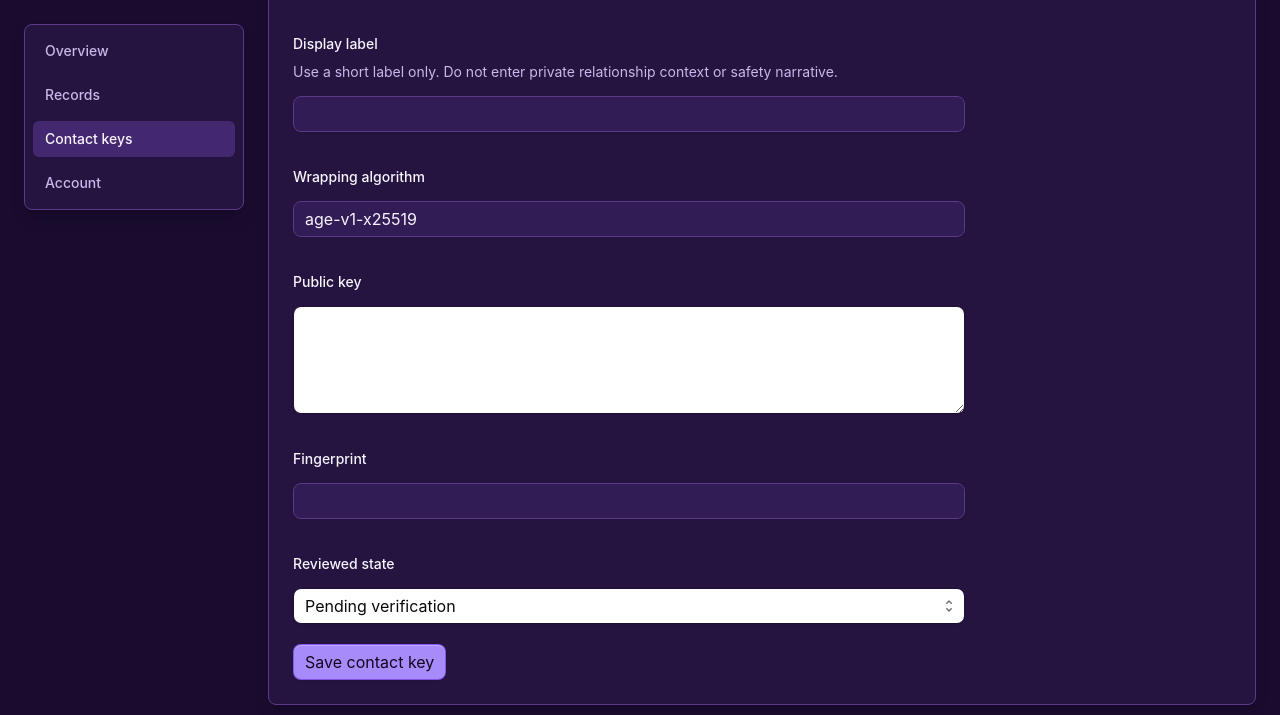
Scenario: shows generic contact-key loading and request errors
The width and height of the screenshot is (1280, 715).
(page scrolled)
Type "age1public" into the text box labelled "Public key" at [629, 360], box [293,306,965,414]
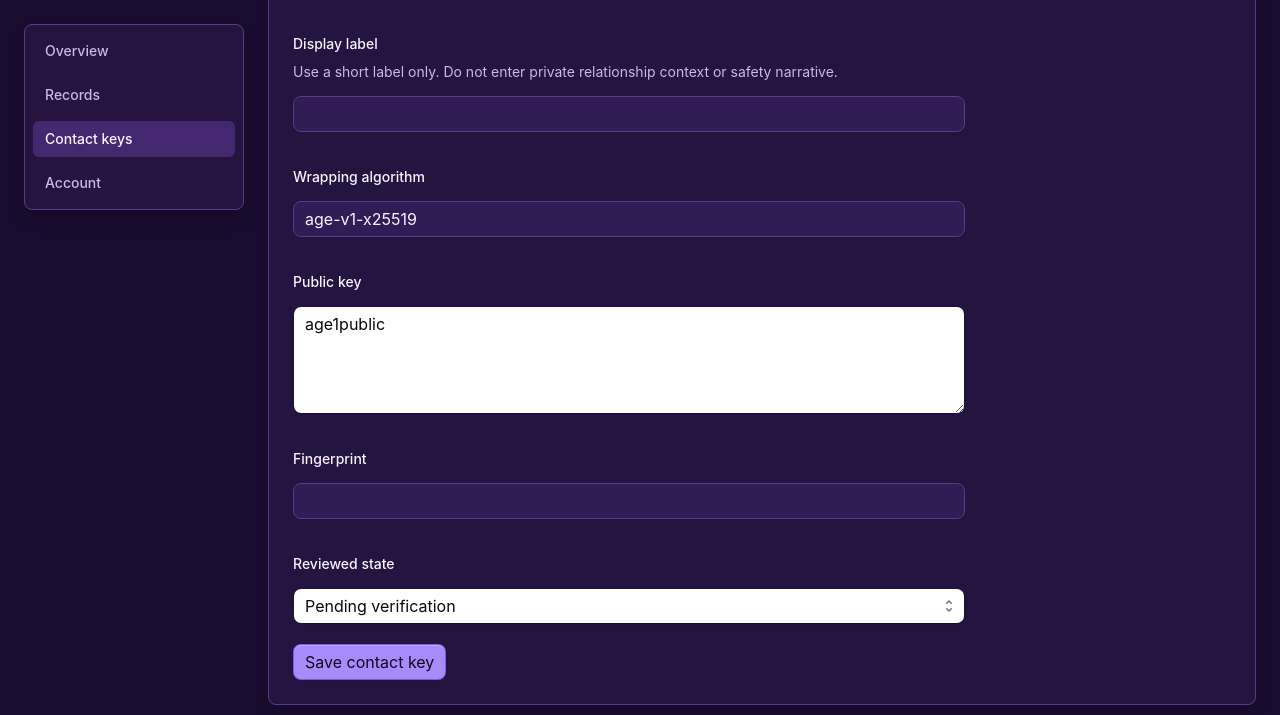
Type "fingerprint-live" into the field labelled "Fingerprint" at [629, 501], box [293,483,965,519]
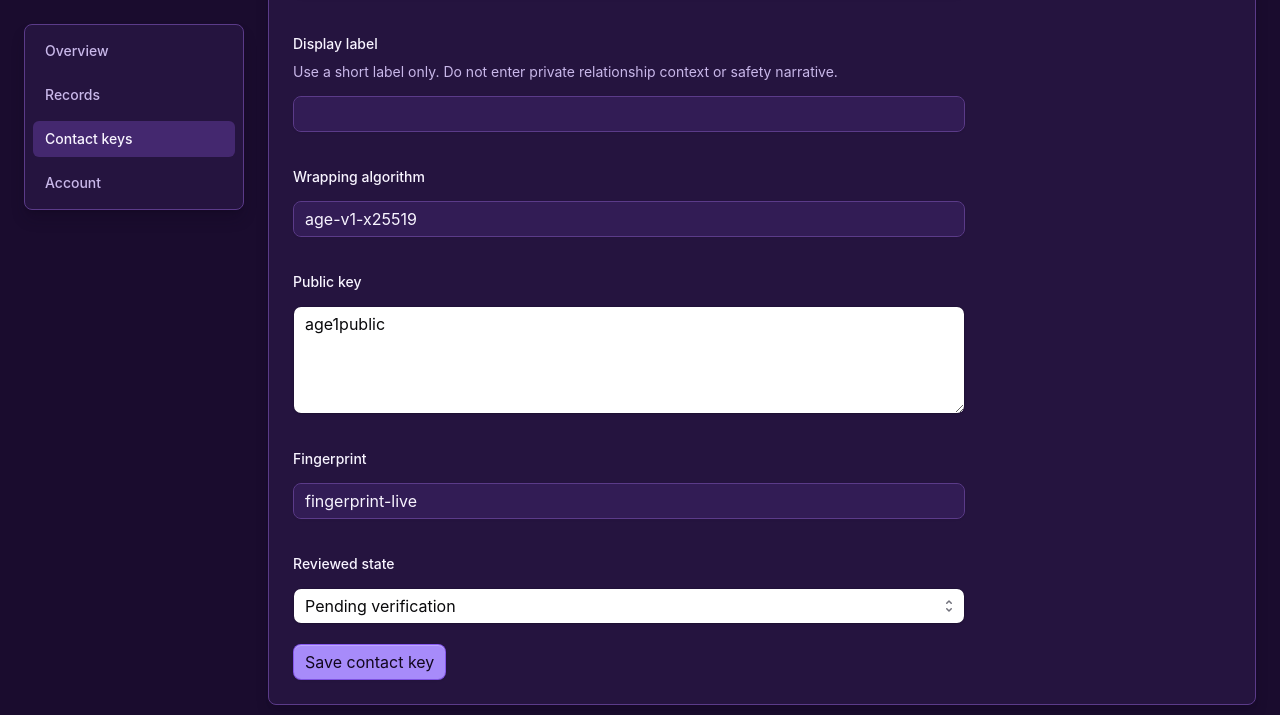
Click the button "Save contact key" at [370, 662], box [293,644,446,680]
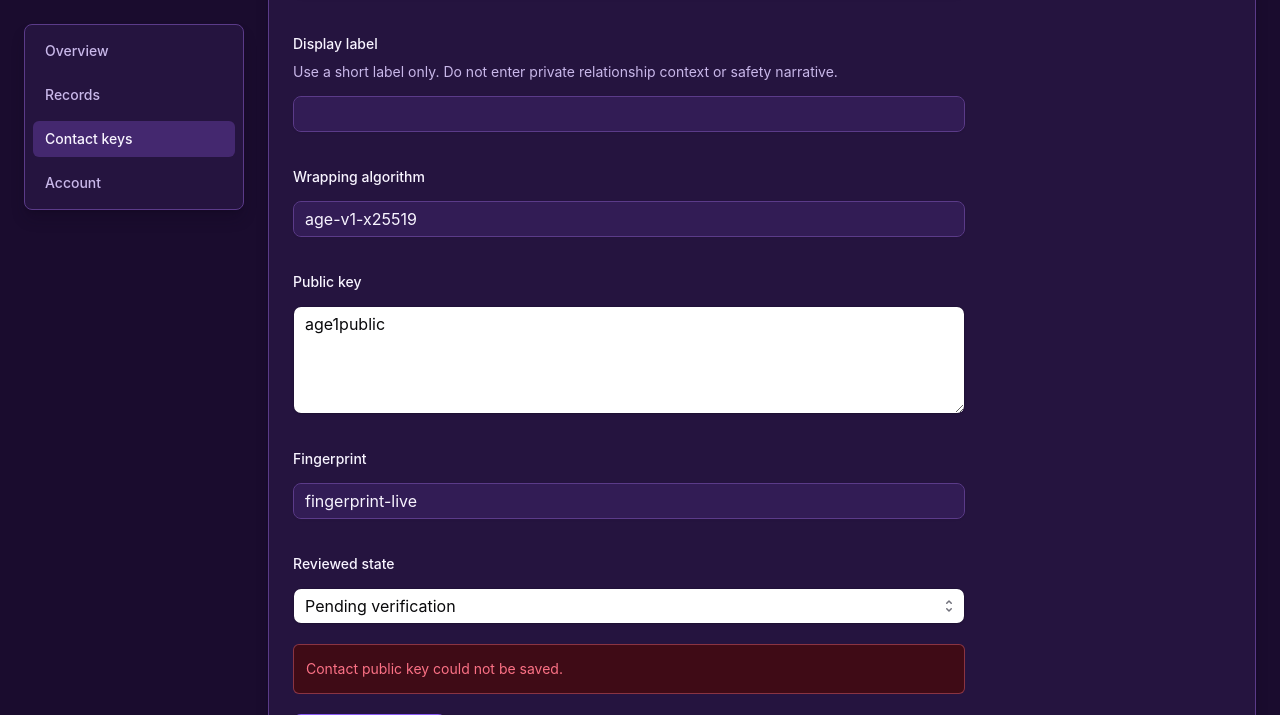
Check: the text "Contact public key could not be saved." is shown, box [293,644,965,694]
